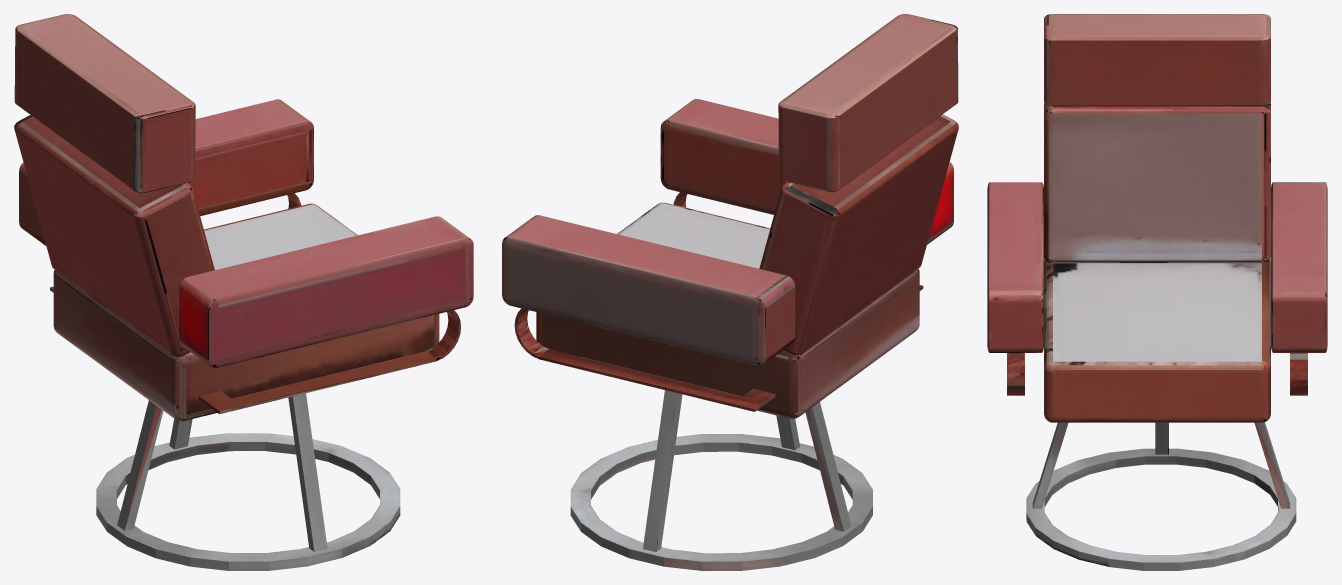
The picture shows the model from 3 angles, left to right: view 1: azimuth 30°, elevation 25°; view 2: azimuth 150°, elevation 25°; view 3: azimuth 270°, elevation 25°; orthographic projection. The views are drawn at different scales.
Parts seen in each view (by area): view 1: Node; view 2: Node; view 3: Node.
Part boxes in pixels (x1,y1,x2,y2): Node: (14, 14, 473, 570); Node: (502, 14, 958, 570); Node: (987, 14, 1327, 570).
Bounding box in the file's own units: 0.4702 × 0.7 × 0.5071.
Materials: 1 (1 with a texture image).
